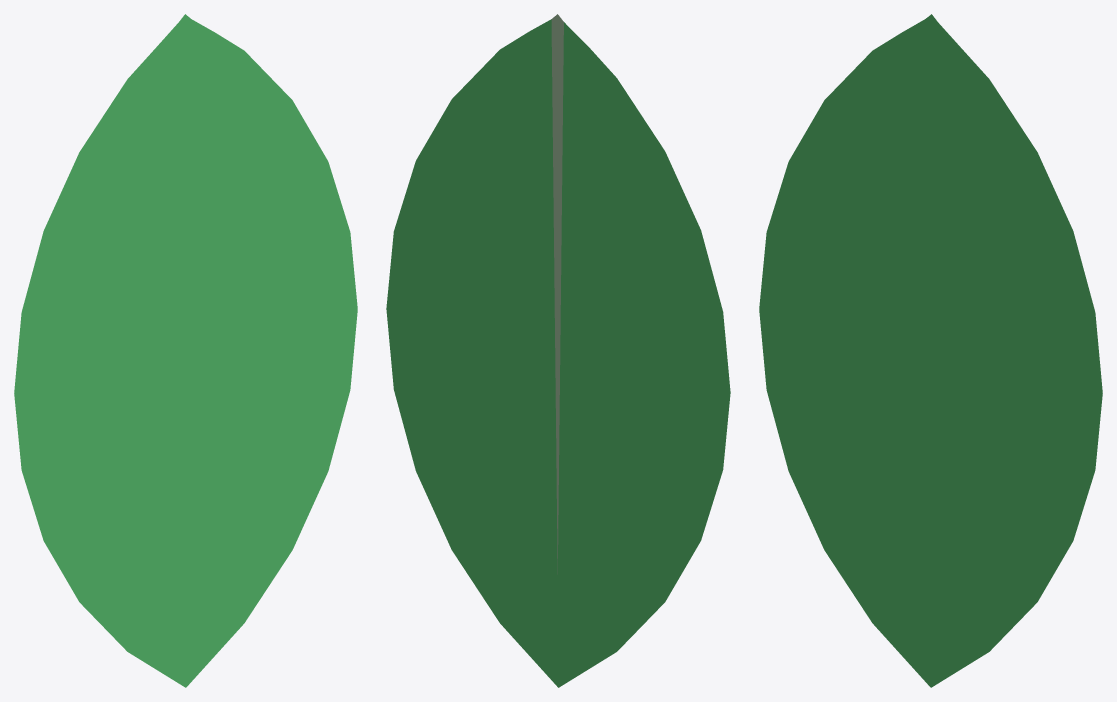
Rendered from mint.fbx.
The picture shows the model from 3 angles, left to right: view 1: azimuth 30°, elevation 25°; view 2: azimuth 150°, elevation 25°; view 3: azimuth 330°, elevation 25°; orthographic projection.
Parts seen in each view (by area): view 1: Circle; view 2: Circle; view 3: Circle.
Boxes of the visible parts, bbox=[...] form: Circle: bbox=[14, 14, 357, 687]; Circle: bbox=[386, 14, 730, 687]; Circle: bbox=[759, 14, 1102, 687].
Size of the model in its own units: 88.81 by 166 by 0.3328.
